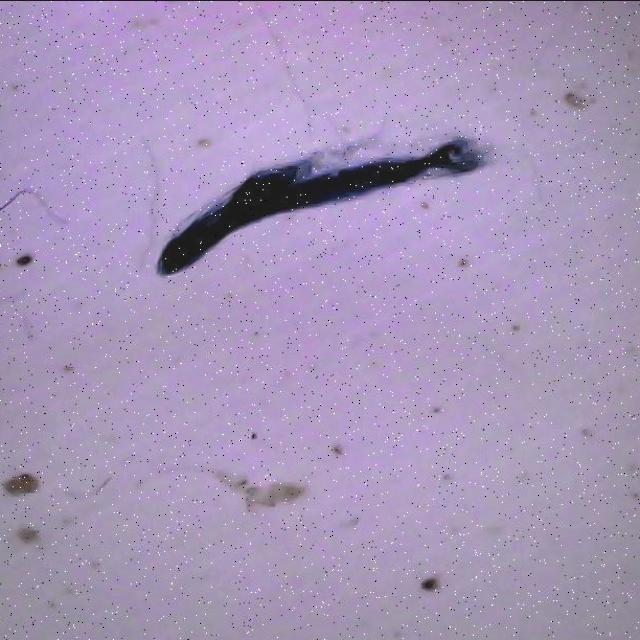Fibre: (0, 180, 78, 234)
